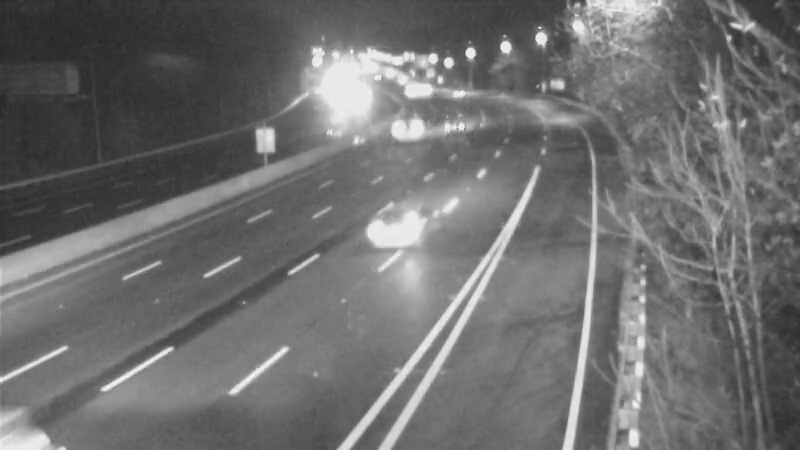vehicle: (363, 180, 443, 260), (383, 65, 433, 115), (428, 68, 478, 118), (429, 97, 479, 147), (386, 98, 436, 148), (329, 80, 379, 130)
